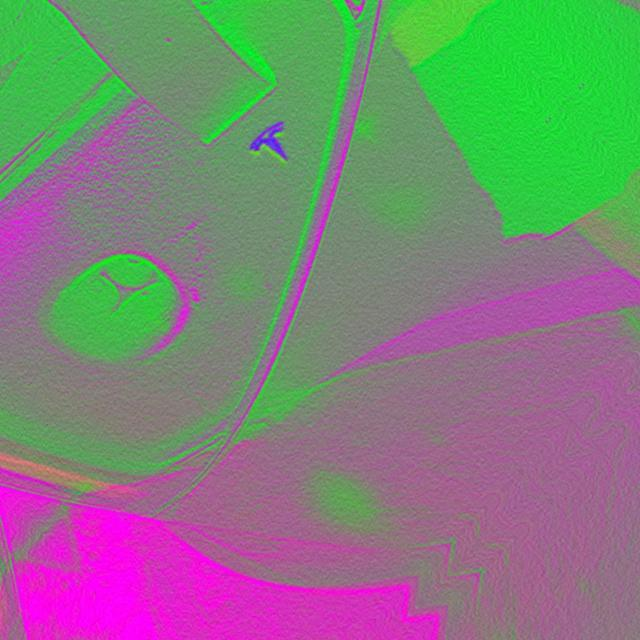Tesla Model-S-: (37, 240, 207, 388)
